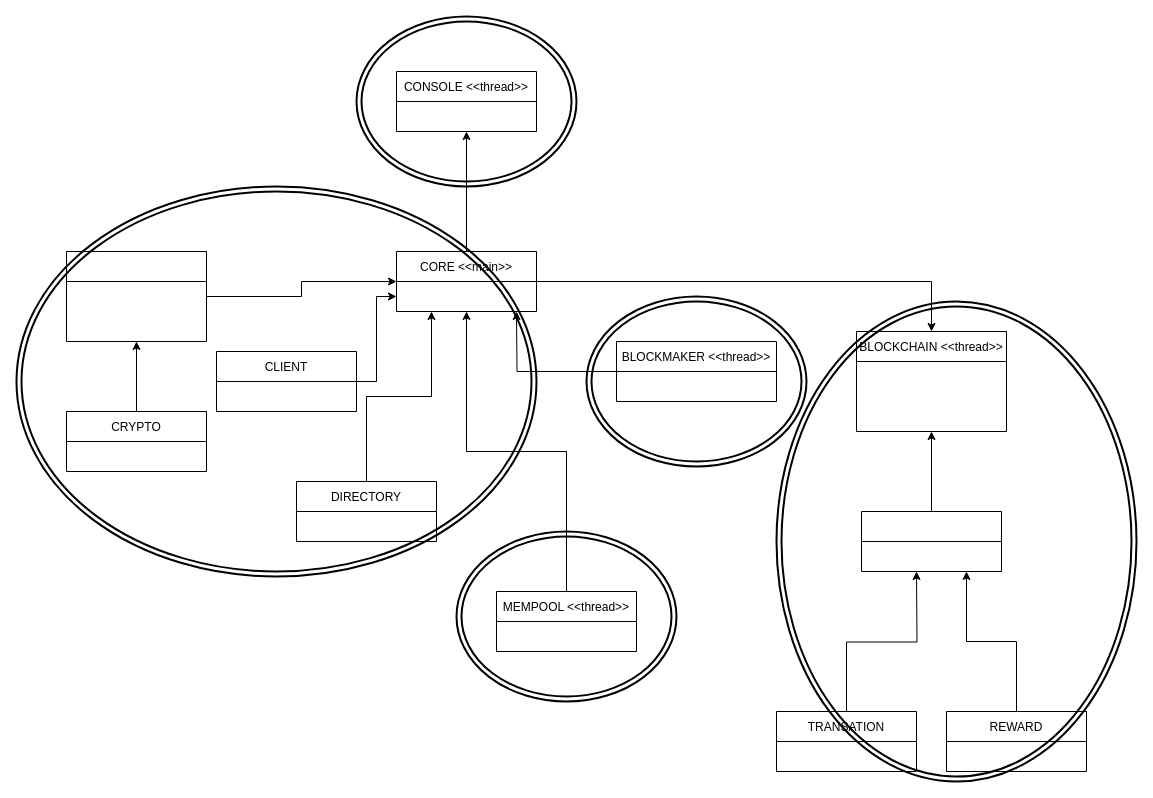
The diagram is 1153 pixels wide and 798 high, and some of its shapes have lost their labels. Here are the shapes that lost their labels. From the top down, the centre of each, then its label:
point 136,296: WALLET
point 931,541: BLOCK
